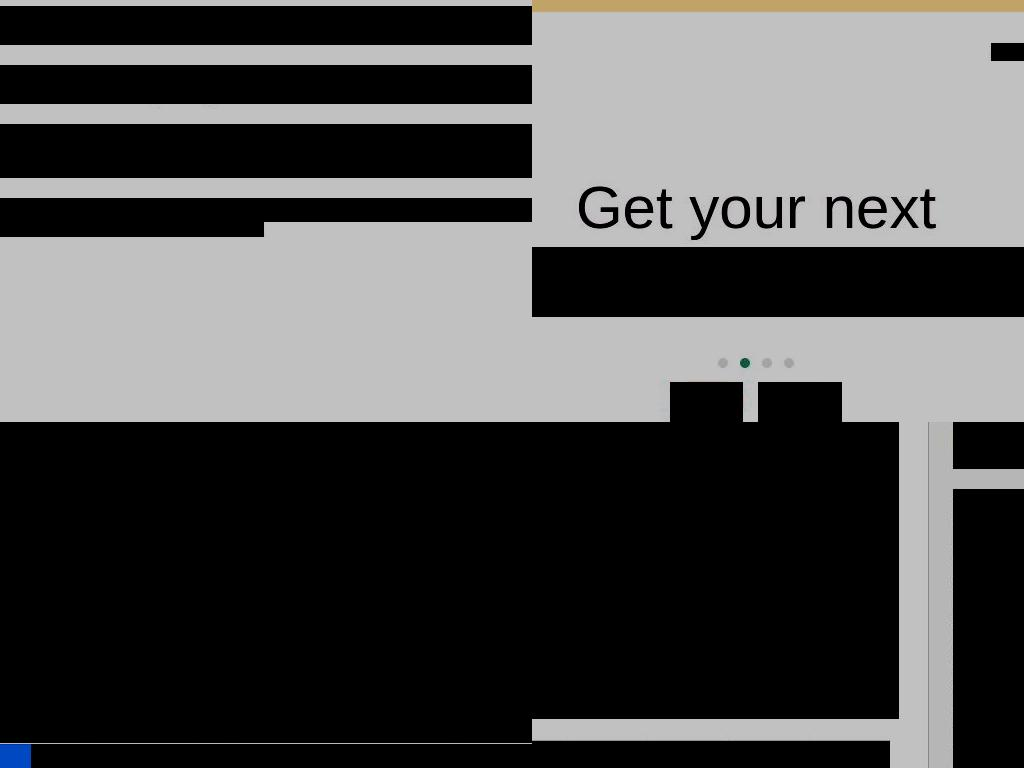button: (42, 714, 532, 731), (331, 744, 483, 768), (31, 744, 182, 768), (181, 744, 332, 768), (232, 566, 432, 583), (758, 382, 842, 422), (670, 382, 743, 422), (647, 741, 729, 768), (566, 741, 647, 768), (729, 741, 810, 768), (810, 741, 890, 768), (738, 609, 763, 633), (767, 609, 792, 633), (795, 609, 820, 633), (824, 609, 849, 633), (991, 43, 1024, 61), (853, 609, 877, 633)
heading: (532, 422, 899, 719), (0, 422, 532, 493), (0, 6, 532, 30), (0, 65, 532, 89), (0, 124, 532, 148), (0, 198, 532, 222)
link: (240, 222, 262, 237)
text: (0, 422, 532, 703), (532, 422, 878, 533), (532, 247, 1024, 317), (575, 173, 937, 243), (0, 703, 532, 743), (953, 489, 1024, 768), (42, 703, 532, 743), (0, 148, 532, 178), (232, 544, 432, 601), (0, 30, 532, 45), (0, 89, 532, 104), (0, 222, 240, 237), (770, 393, 830, 412), (682, 393, 731, 412), (991, 43, 1024, 61), (260, 222, 264, 237)
